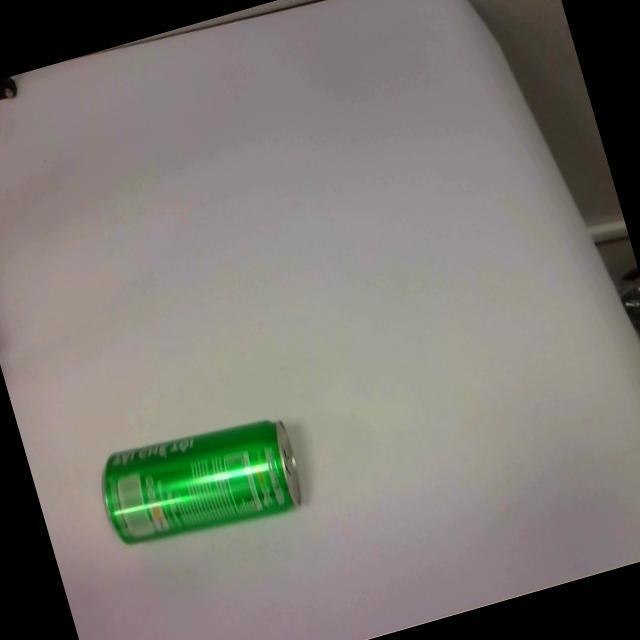debris: (89, 403, 311, 563)
